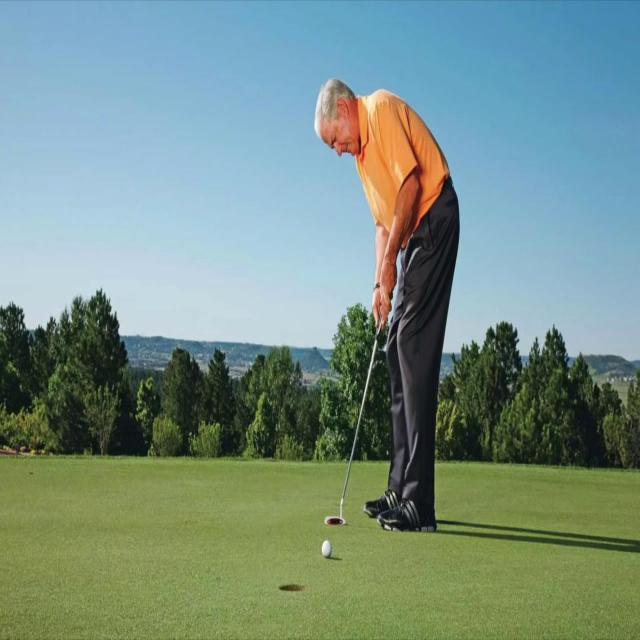ClubHead: (314, 482, 362, 529)
GolfBall: (315, 537, 336, 560)
